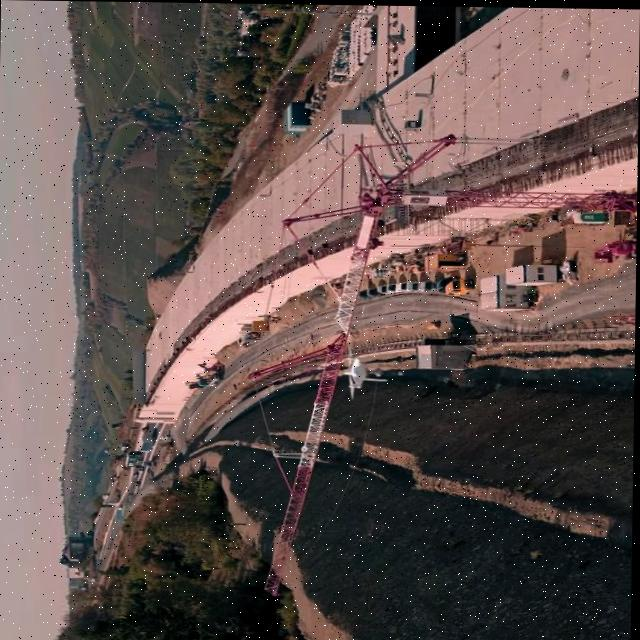drone: (340, 349, 391, 400)
